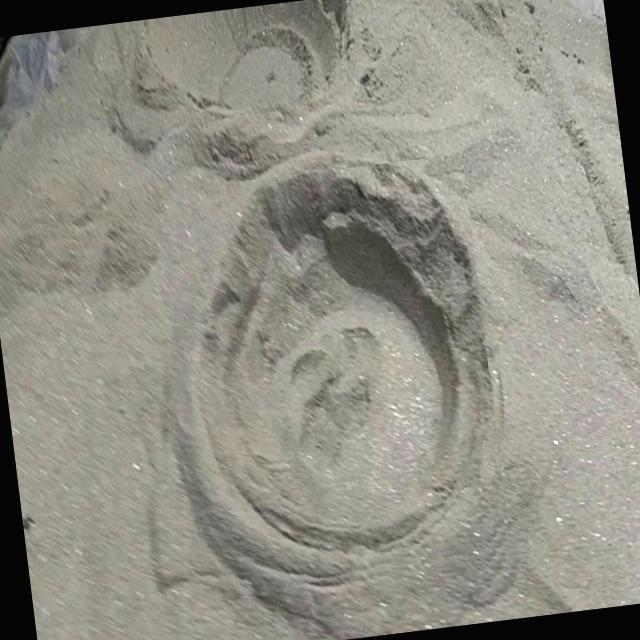C20: (177, 163, 493, 583), (124, 0, 350, 113)
